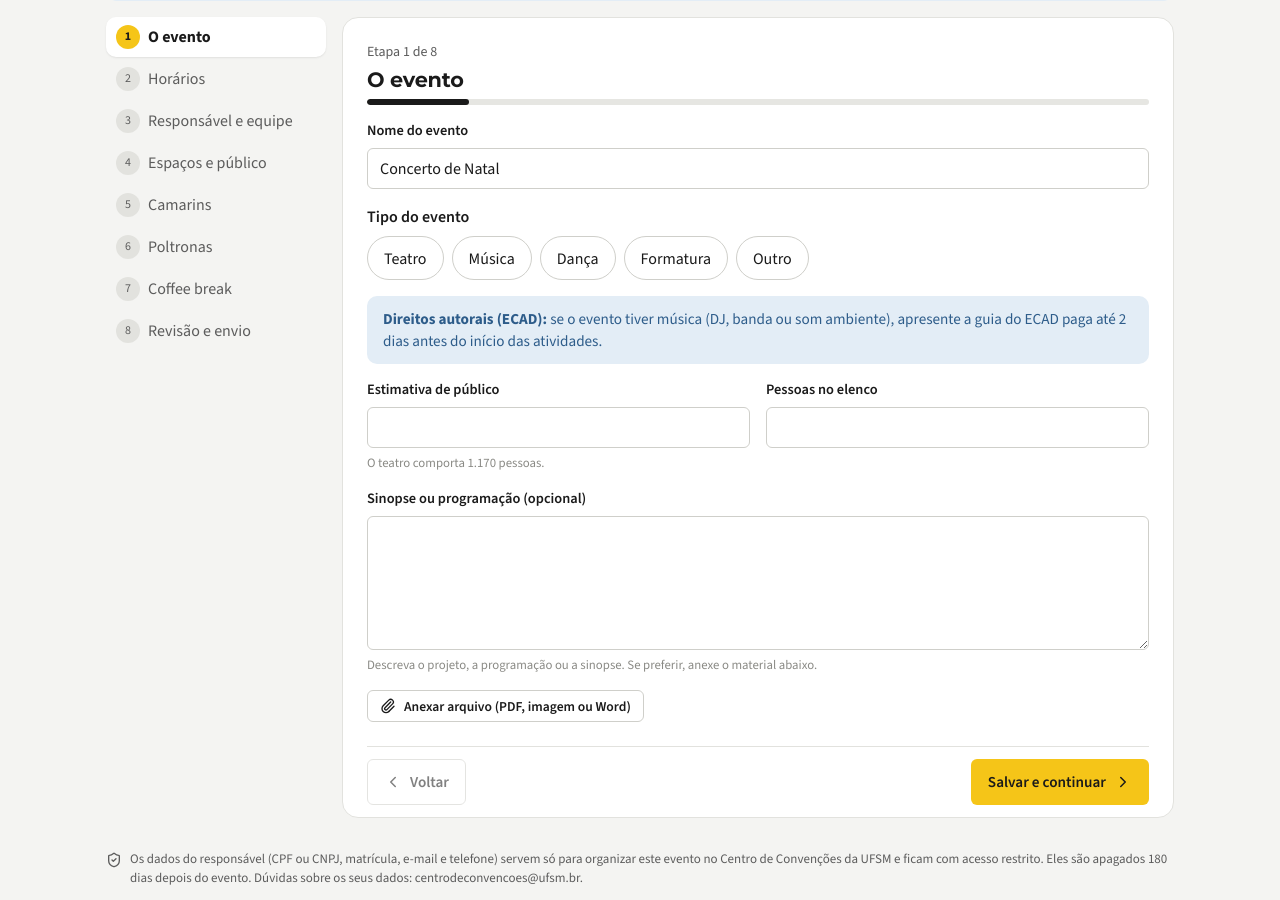
Test: ficha técnica pelo link do produtor › abre sem login, não avança com a etapa incompleta e traz os horários do evento
The width and height of the screenshot is (1280, 900).
(page scrolled)
Expected: the heading "O evento" is shown, x1=367 y1=67 x2=464 y2=92
Click the button "Salvar e continuar". click: (1060, 782)
box: x1=971 y1=759 x2=1149 y2=805
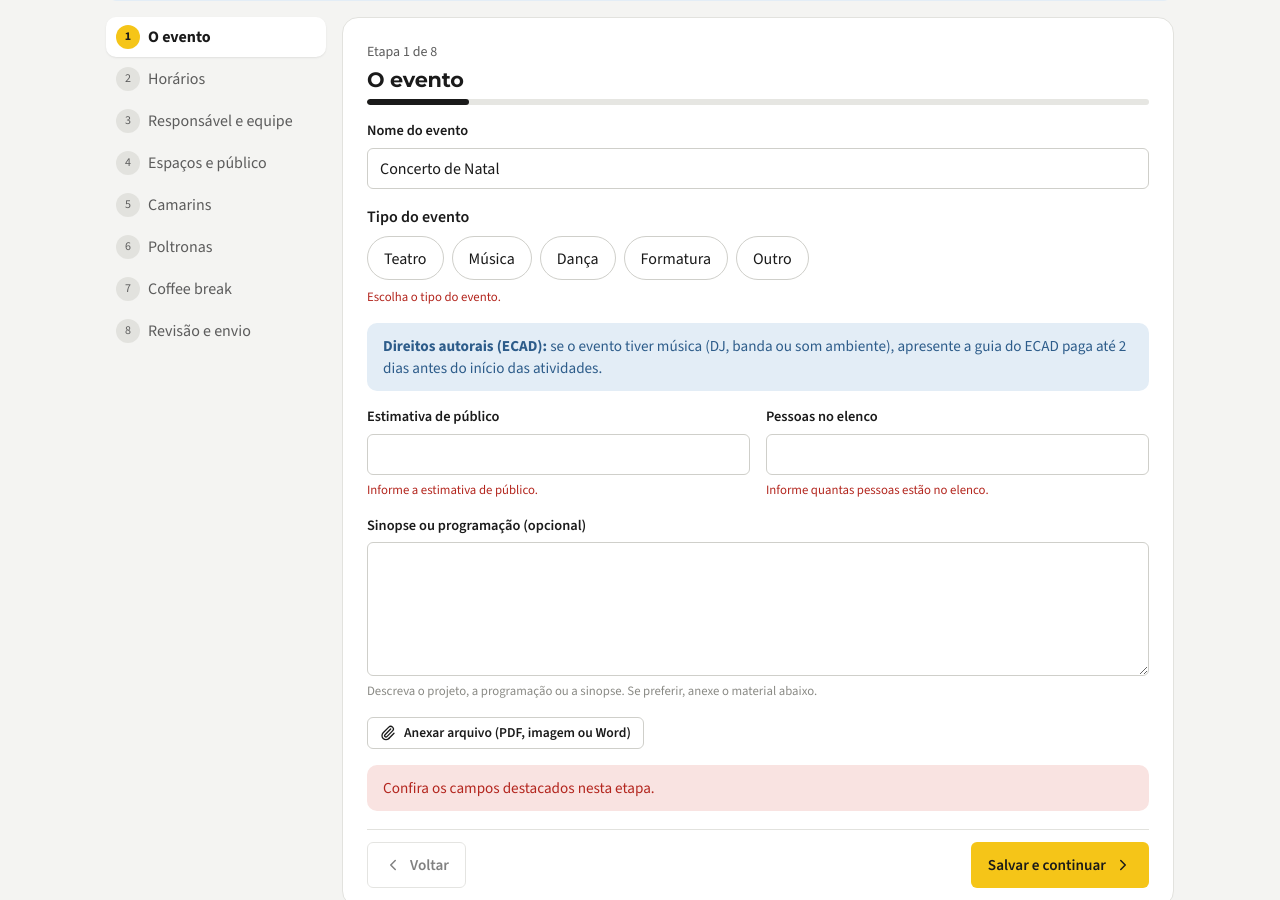
Expected: the heading "O evento" is shown, x1=367 y1=67 x2=464 y2=92
Expected: the text "Escolha o tipo do evento." is shown, x1=367 y1=288 x2=501 y2=305
Click the radio button labelled "Música". click: (492, 258)
box: x1=452 y1=236 x2=532 y2=280
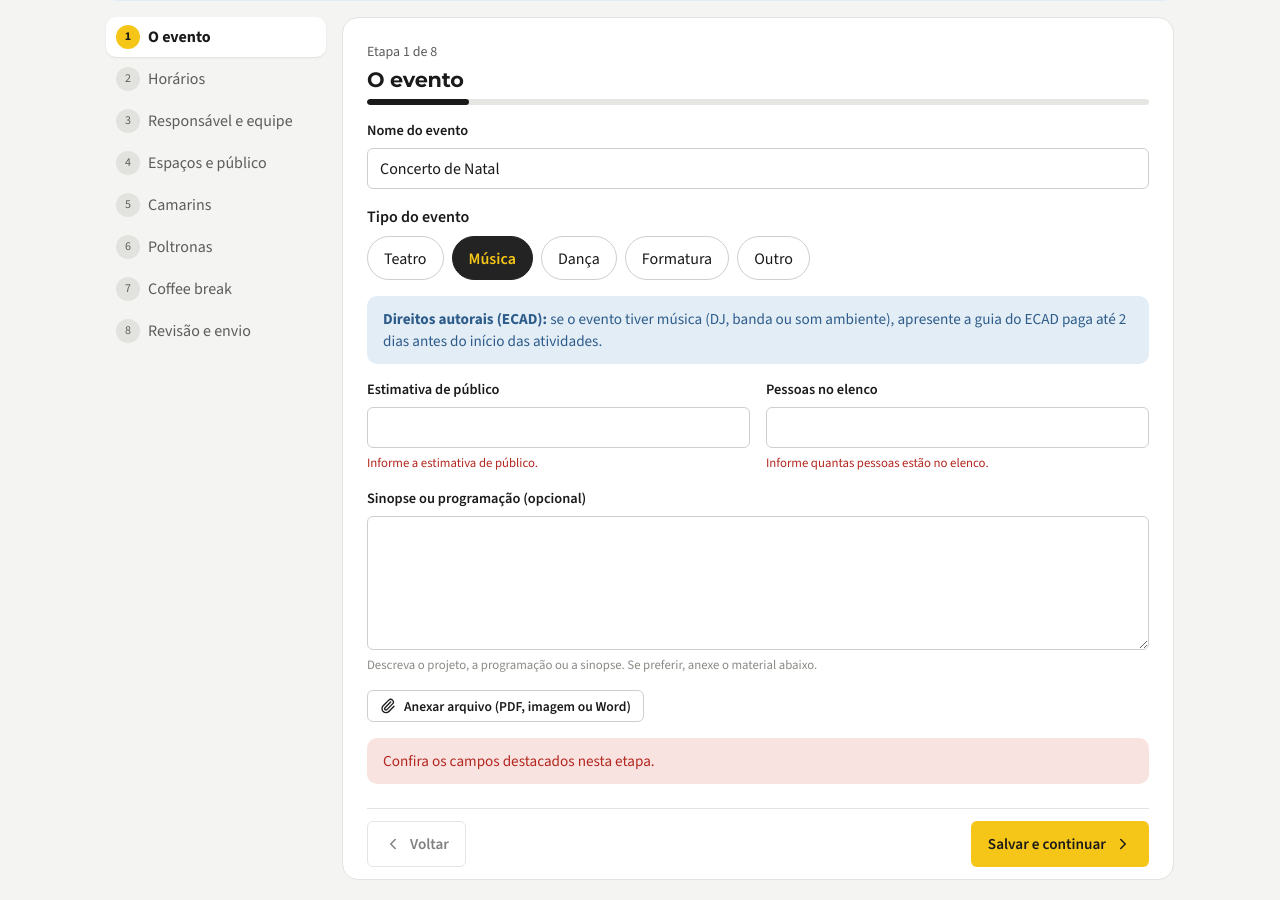
Type "600" into the number field labelled "Estimativa de público". click: (558, 428)
box: x1=367 y1=407 x2=750 y2=448
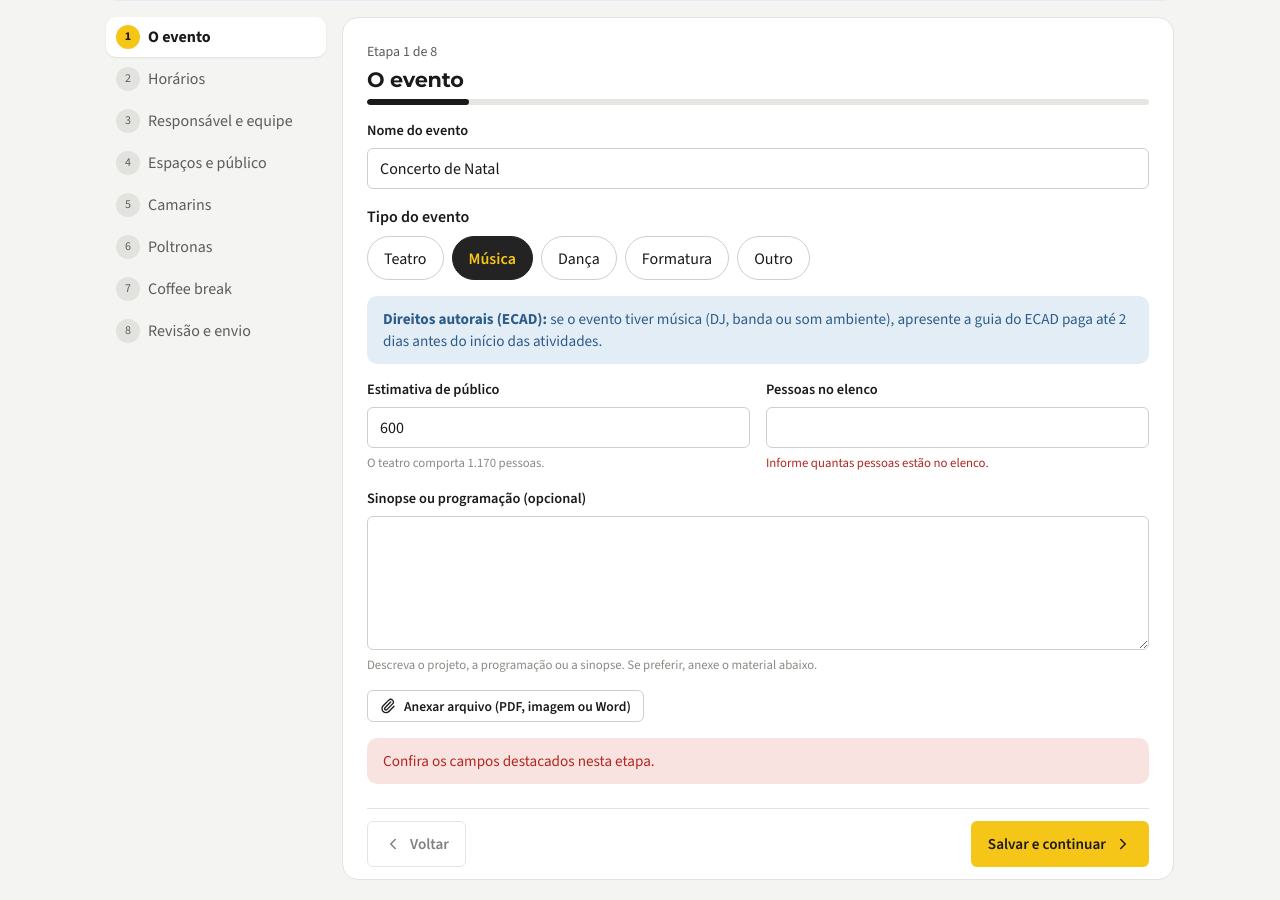
Type "40" into the number field labelled "Pessoas no elenco". click: (958, 428)
box: x1=766 y1=407 x2=1149 y2=448
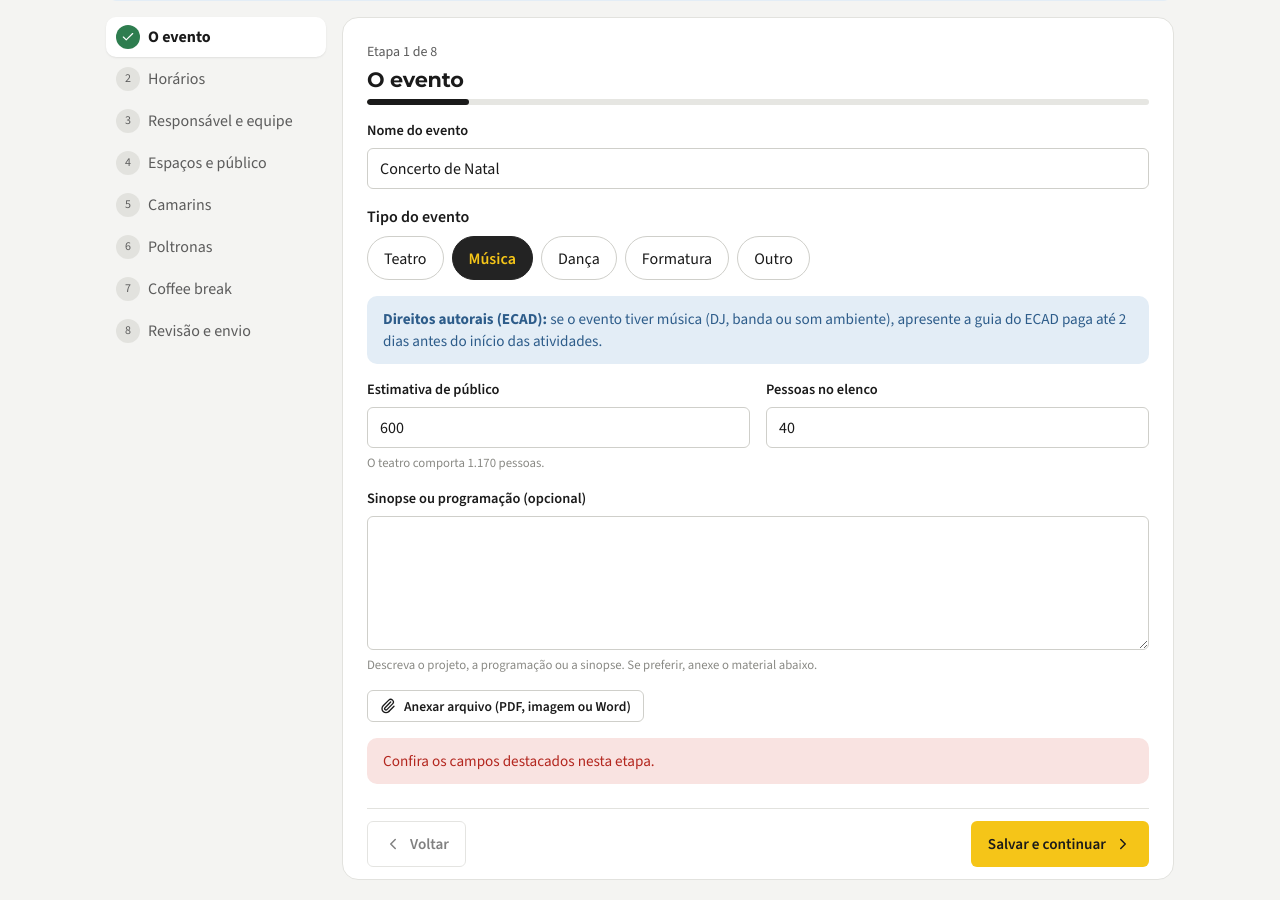
Click the button "Salvar e continuar". click: (1060, 844)
box: x1=971 y1=821 x2=1149 y2=867
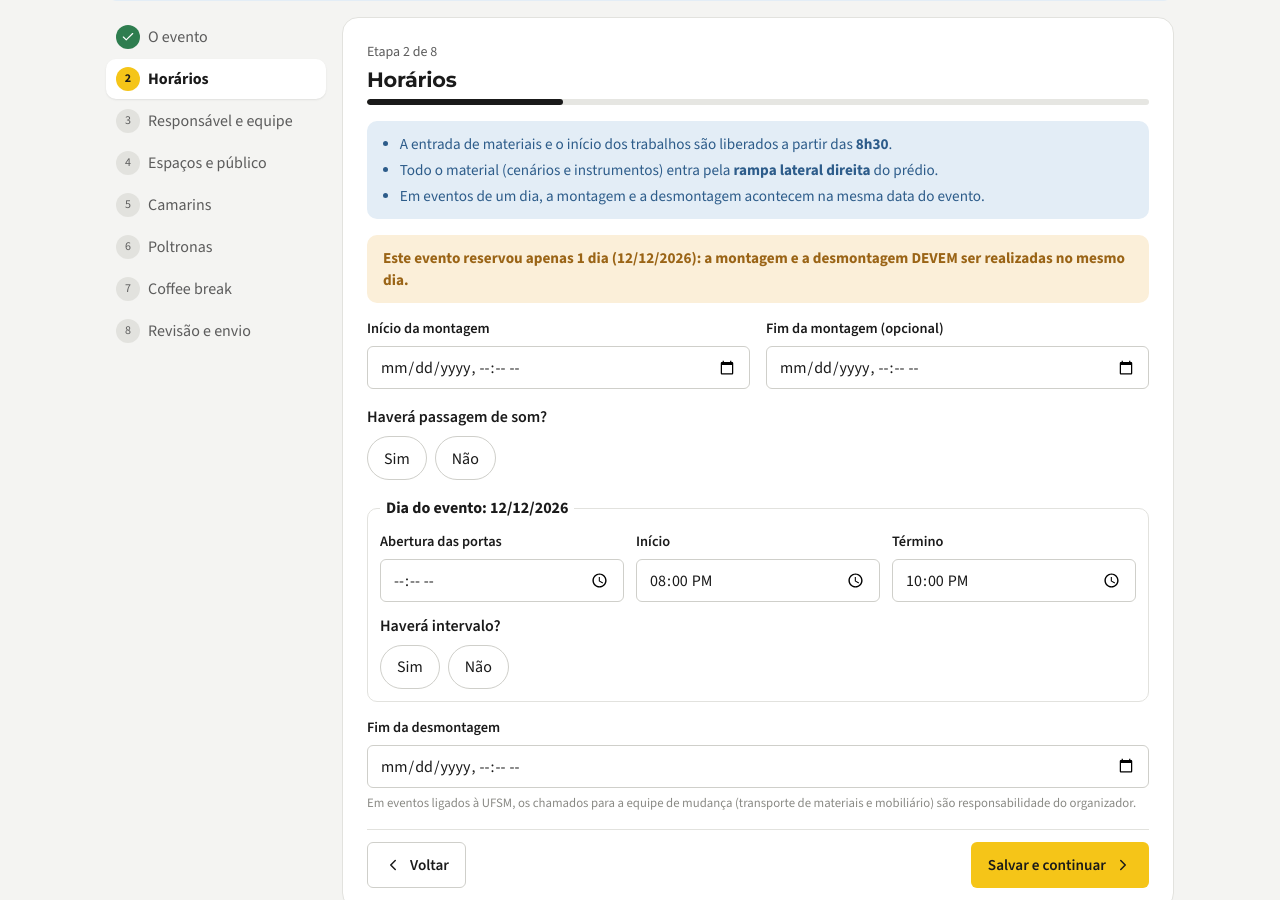
Expected: the heading "Horários" is shown, x1=367 y1=67 x2=457 y2=92
Expected: the time field labelled "Início" holds "20:00", x1=636 y1=558 x2=880 y2=602
Expected: the time field labelled "Término" holds "22:00", x1=892 y1=558 x2=1136 y2=602
